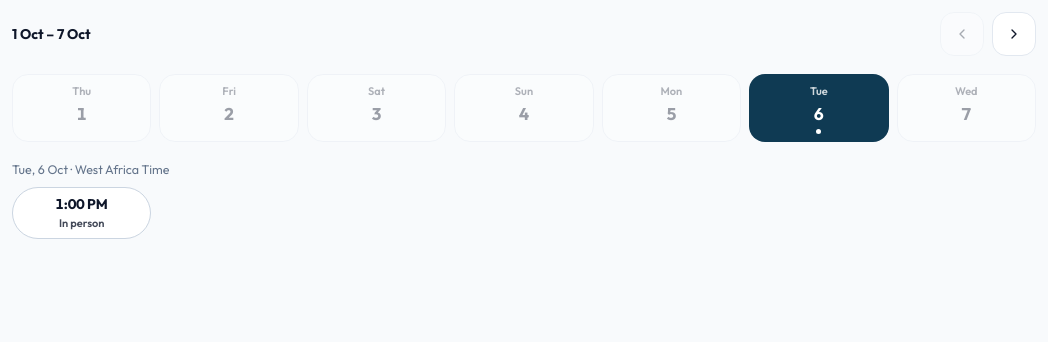
Test: TimeStep › shows the address once an in-person time is picked
The width and height of the screenshot is (1048, 342).
Click the button "1:00 PM In person" at (82, 213), box [12,187,151,239]
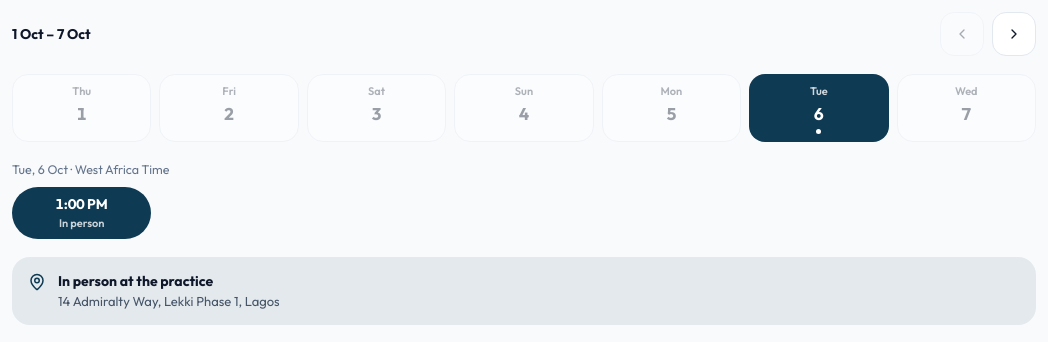
Result: the text "In person at the practice" is shown at [58,272,213,290]
Result: the text "14 Admiralty Way, Lekki Phase 1, Lagos" is shown at [58,292,280,311]
